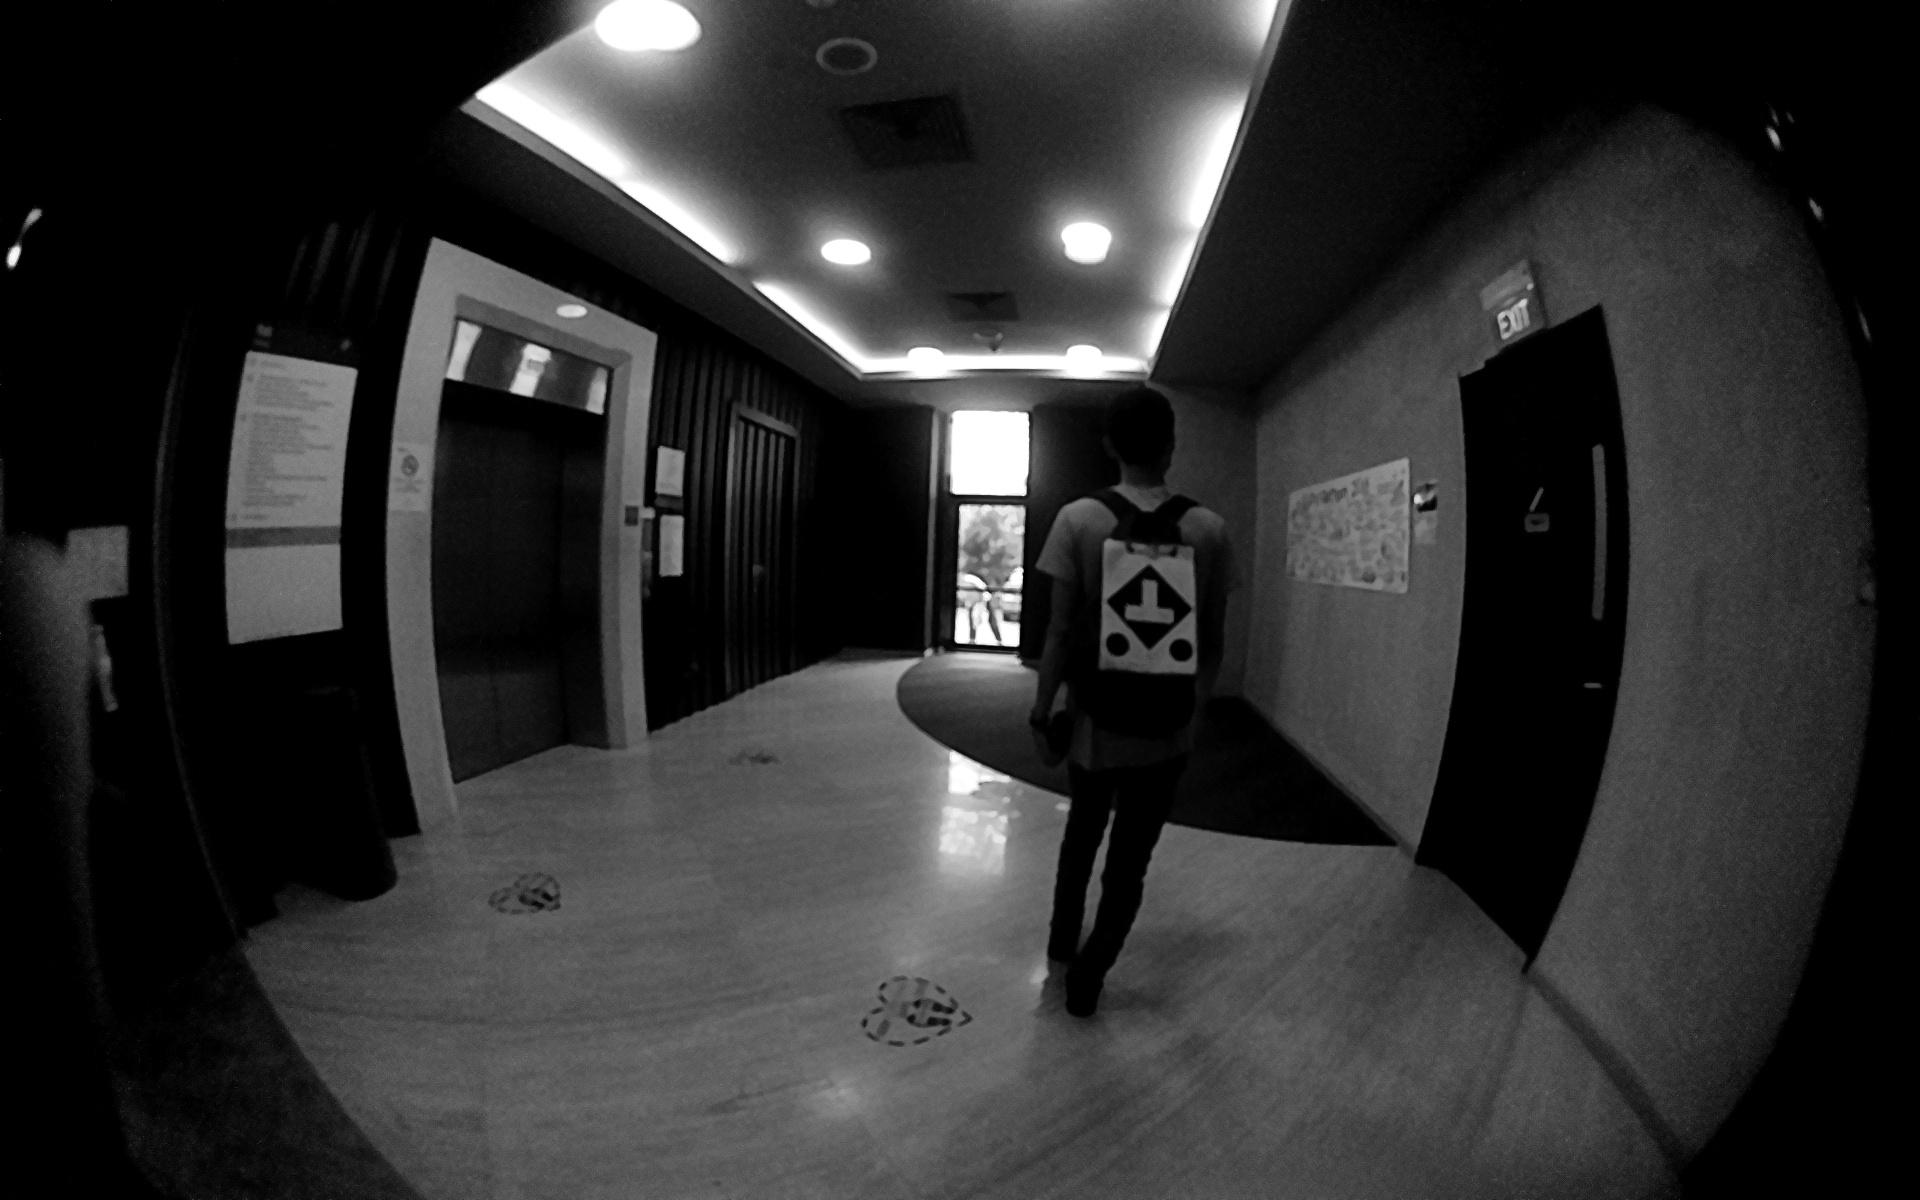continue_forward: (1104, 556, 1193, 666)
